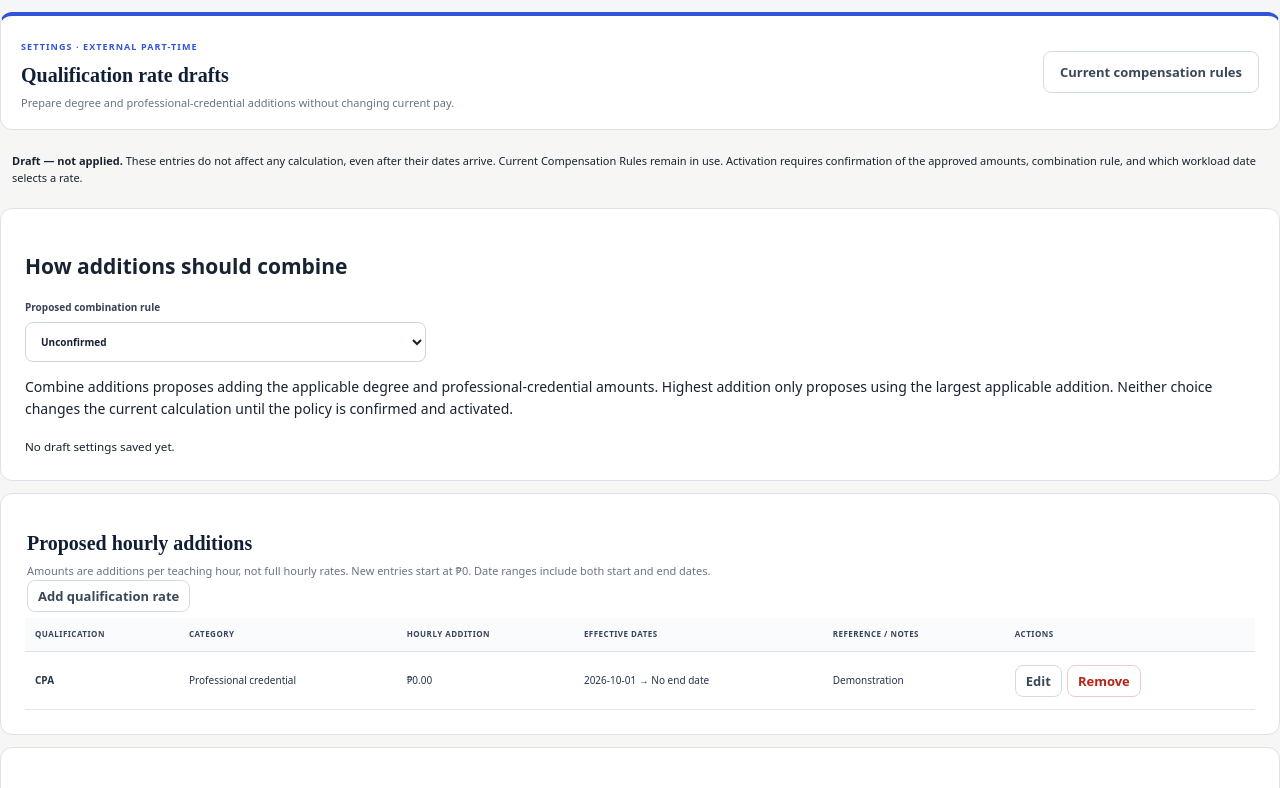
Test: cancelling a qualification editor preserves the existing draft row
This screenshot has width=1280, height=788.
Click the button "Edit": (1038, 681) [1015,665,1062,697]
(page scrolled)
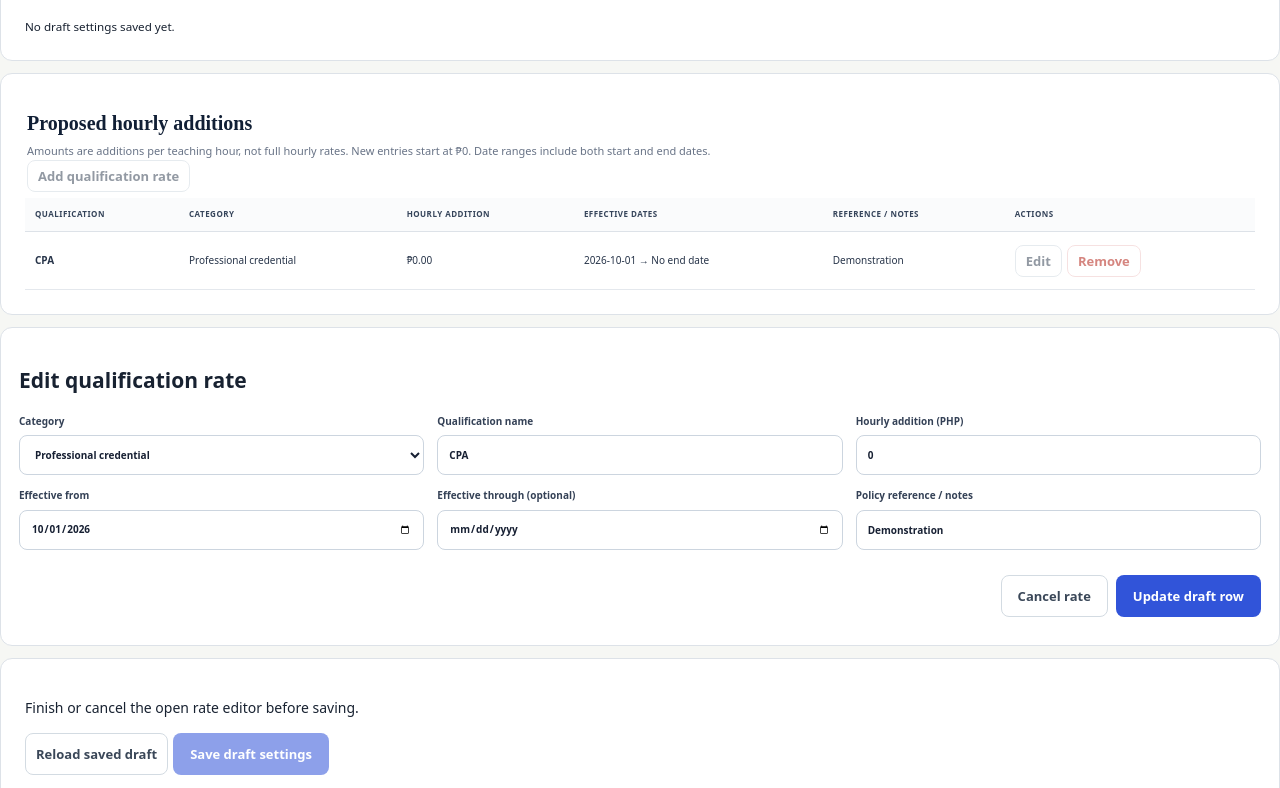
Replace the text in the field labelled "Qualification name" with "Engineer": (640, 455) [437,435,843,475]
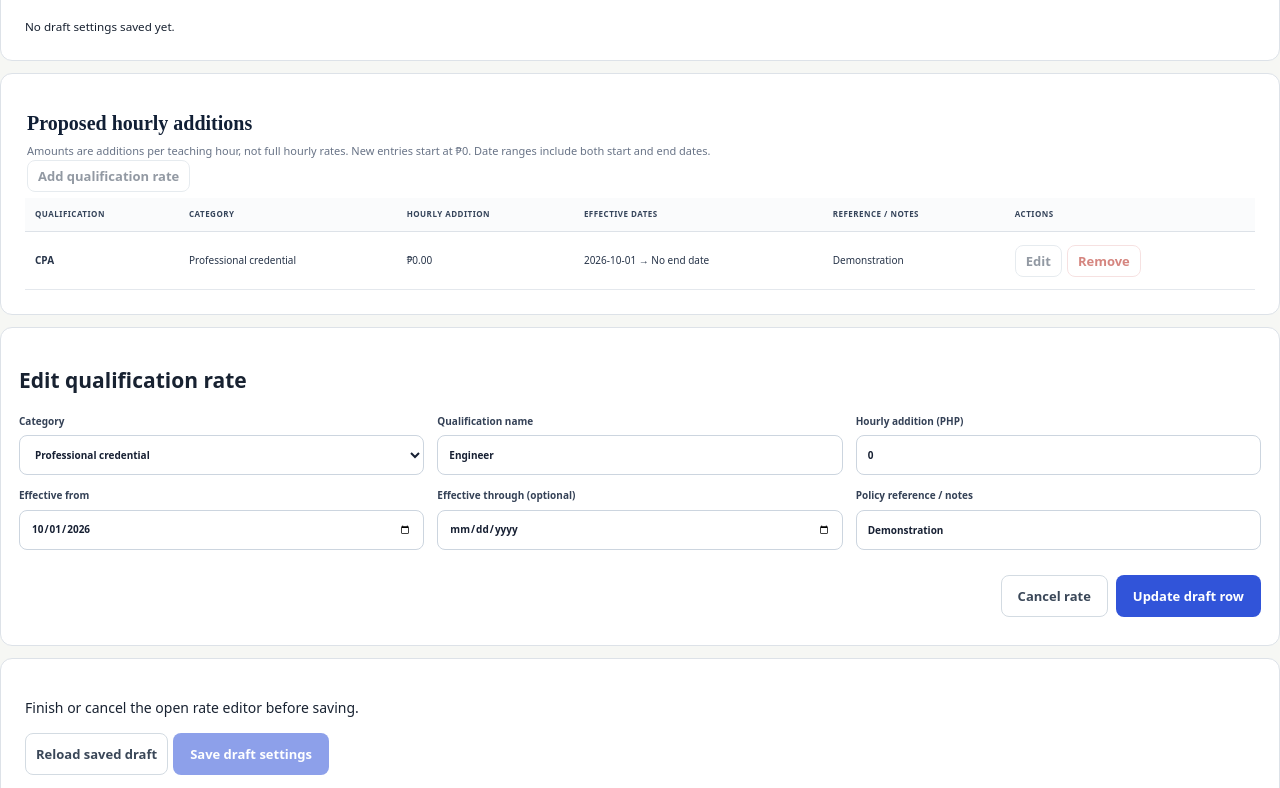
Click the button "Cancel rate": (1054, 596) [1001,575,1108,617]
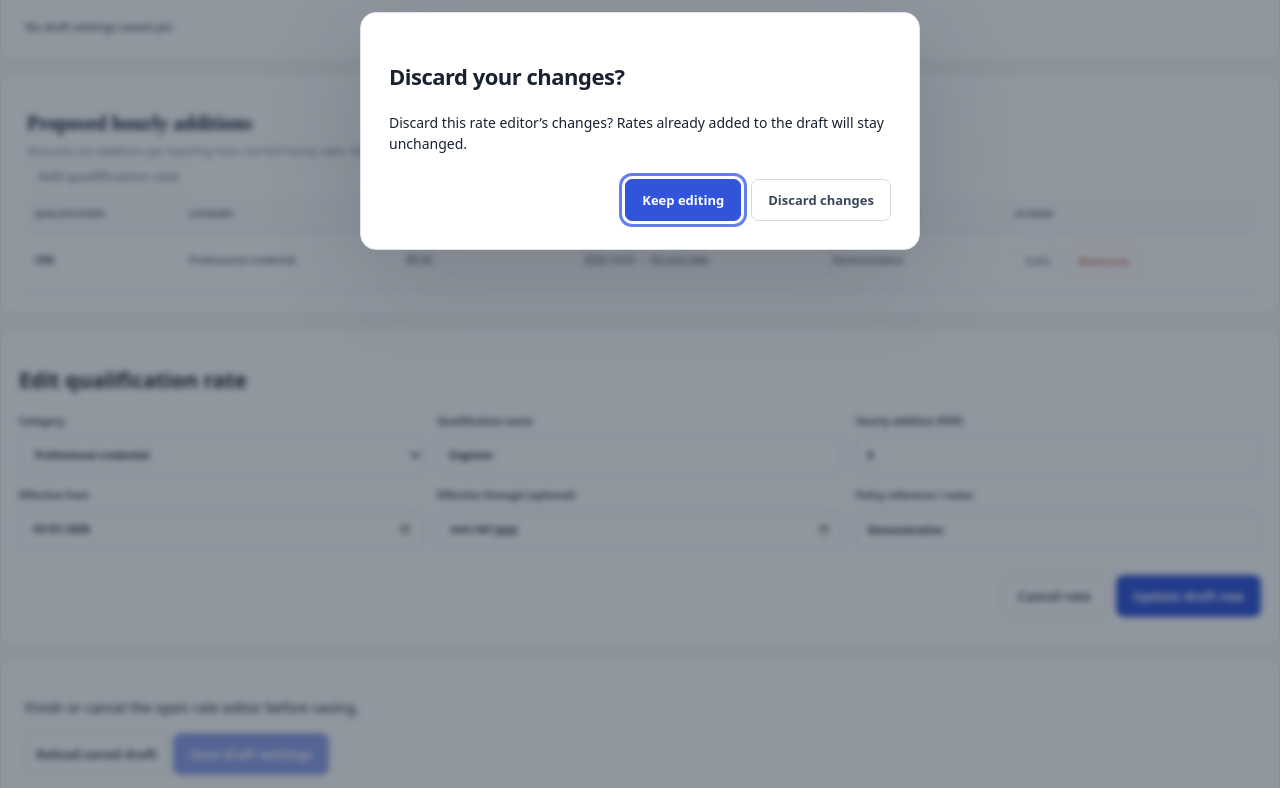
Click the button "Keep editing": (683, 200) [625,179,741,221]
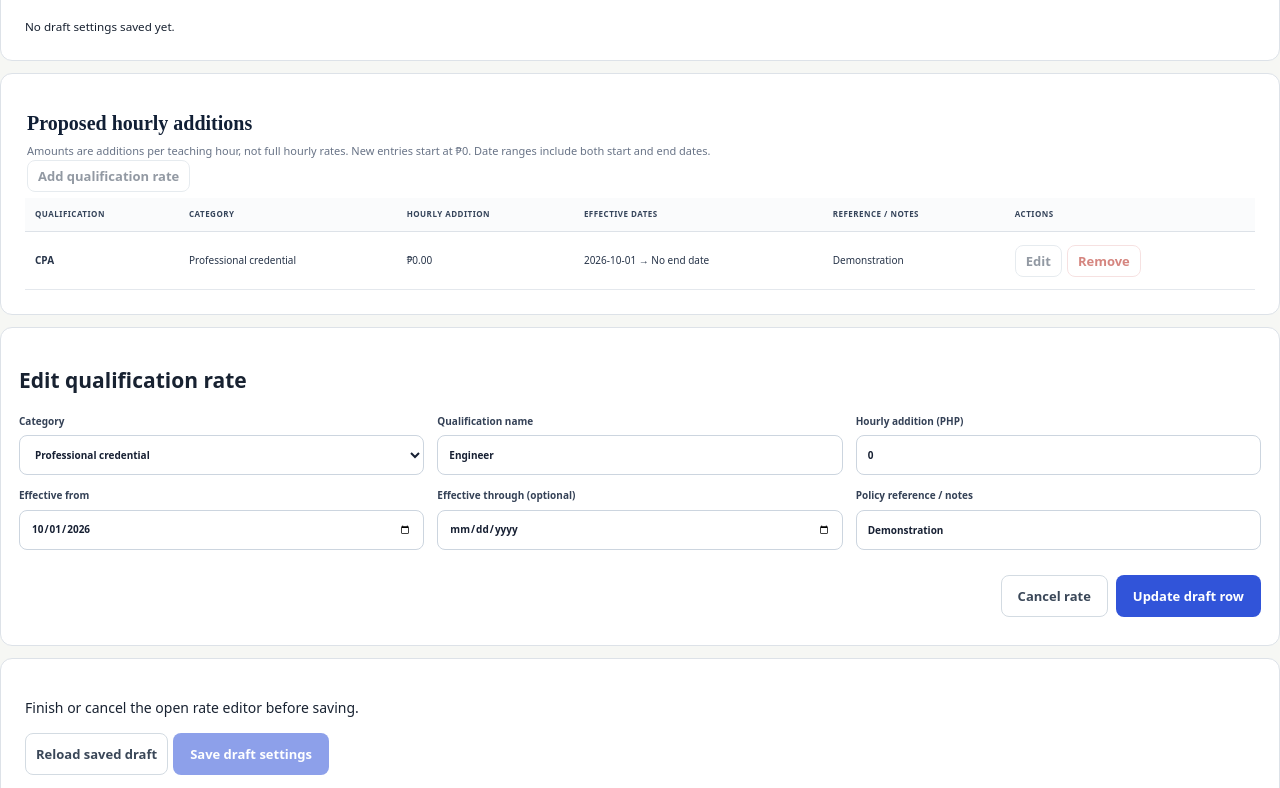
Click the button "Cancel rate": (1054, 596) [1001,575,1108,617]
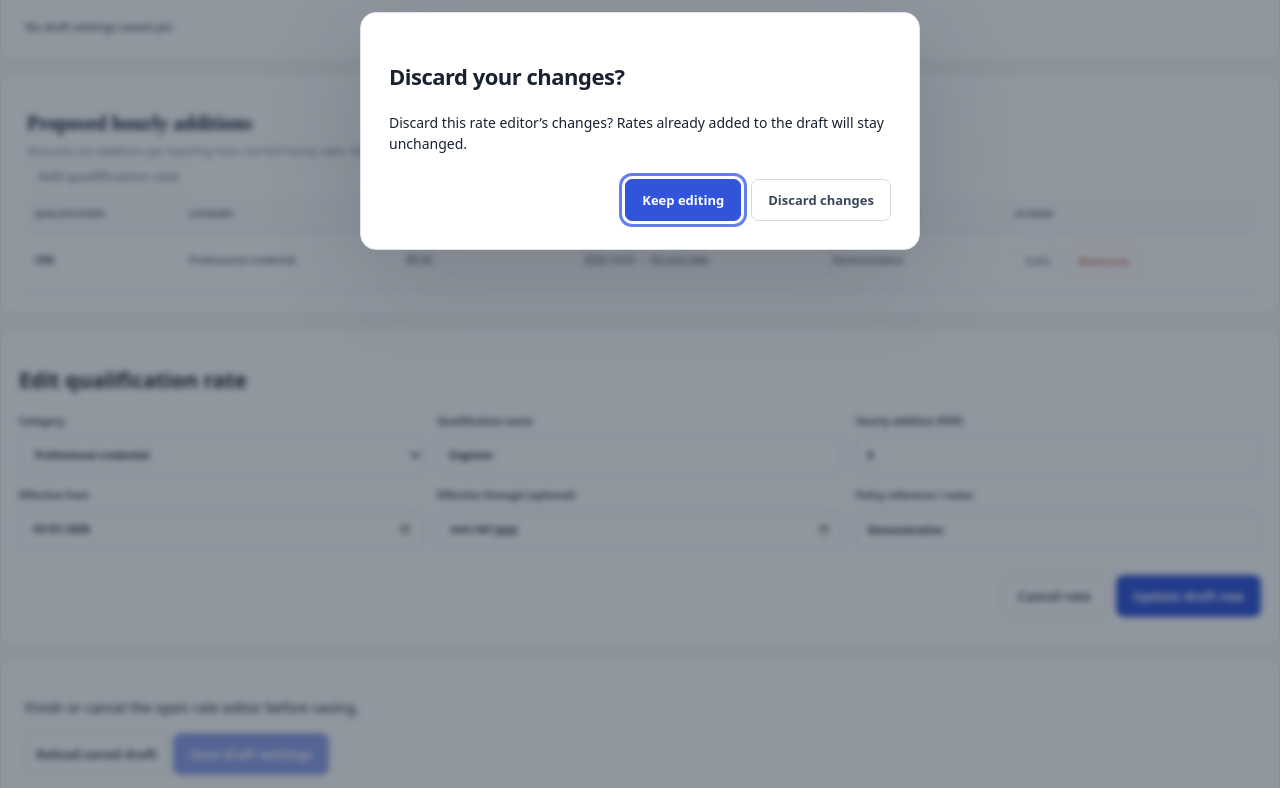
Click the button "Discard changes": (821, 200) [751,179,891,221]
(page scrolled)
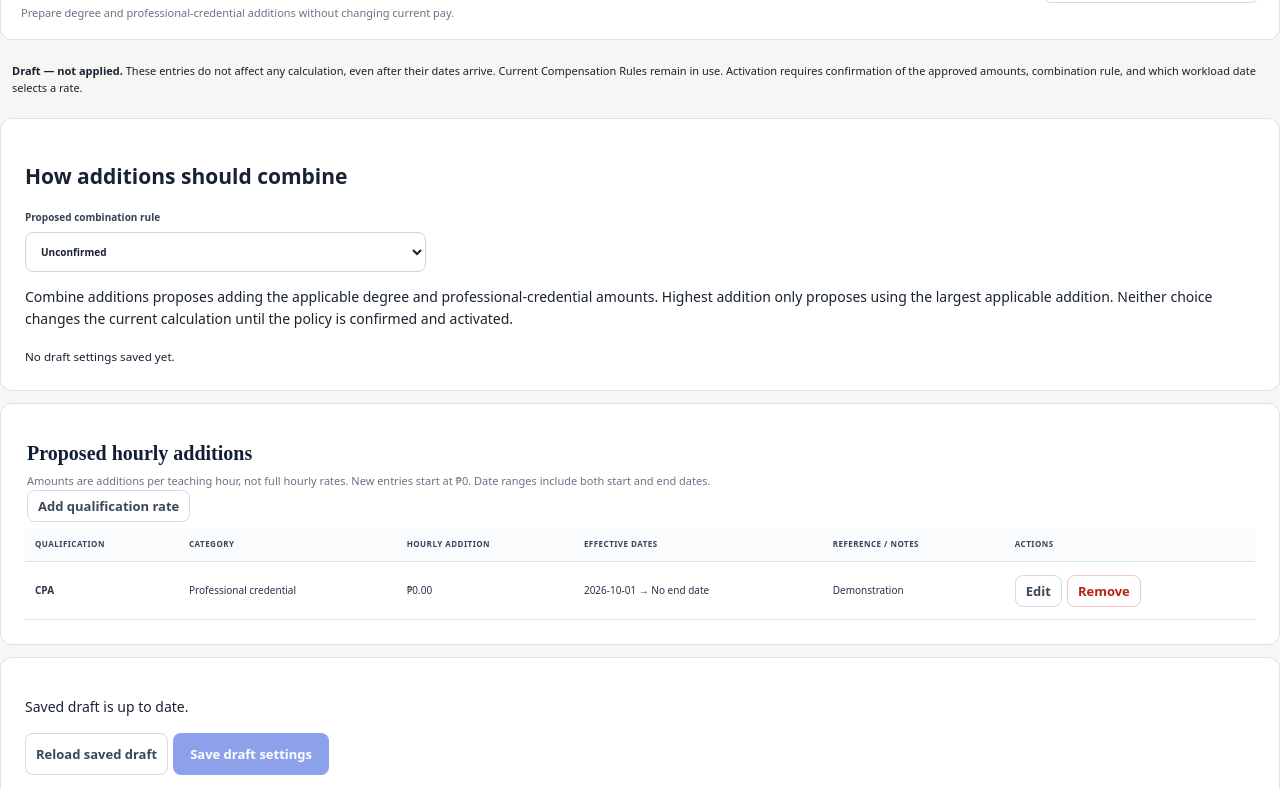
Expected: the text "CPA" is shown, [35,583,54,597]
Result: the label labelled "Qualification name" is gone
